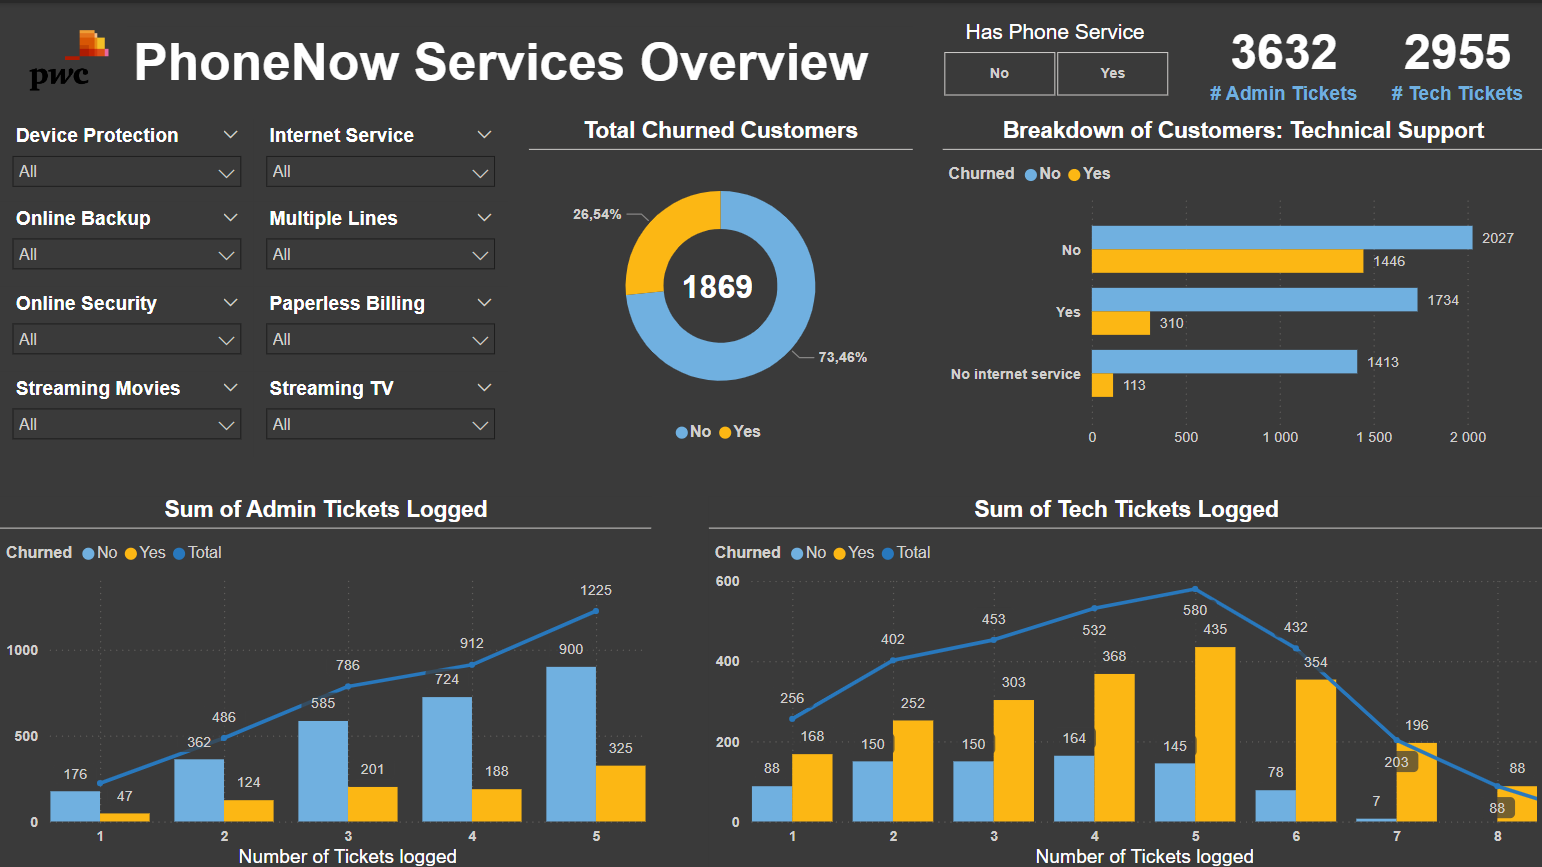

The page's visual inventory and layout, read from the dashboard file:
{"tool":"powerbi","page":{"name":"Services","canvas":[1280,720],"ordinal":0},"visuals":[{"type":"donutChart","title":"Total Churned Customers","fields":{"Y":["CountNonNull(01 Churn-Dataset.customerID)"],"Category":["01 Churn-Dataset.Churn"]},"box":[438.2,95,318.2,279.4],"z":0,"group":"g2"},{"type":"clusteredBarChart","title":"Breakdown of Customers: Technical Support","fields":{"Series":["01 Churn-Dataset.Churn"],"Y":["CountNonNull(01 Churn-Dataset.customerID)"],"Category":["01 Churn-Dataset.TechSupport"]},"box":[781.4,95,498.8,280.3],"z":0},{"type":"group","id":"g1","title":"Group 2","box":[992.8,0,287.4,95],"z":1000},{"type":"image","box":[0,0,114,95],"z":2000},{"type":"textbox","box":[105.7,20.2,812.3,59.4],"z":3000},{"type":"group","id":"g2","title":"Group 3","box":[438.2,95,318.2,279.4],"z":4000},{"type":"card","fields":{"Values":["CountNonNull(01 Churn-Dataset.Churn)"]},"box":[557.9,217.3,74.8,35.6],"z":5000,"group":"g2"},{"type":"group","id":"g3","title":"Group 4","box":[0,409,1280.2,311.2],"z":5000},{"type":"slicer","fields":{"Values":["01 Churn-Dataset.DeviceProtection"]},"box":[0,96.2,210.2,70.1],"z":6000,"group":"g4"},{"type":"lineClusteredColumnComboChart","title":"Sum of Admin Tickets Logged","fields":{"Category":["01 Churn-Dataset.numAdminTickets"],"Series":["01 Churn-Dataset.Churned"],"Y":["Sum(01 Churn-Dataset.numAdminTickets)"],"Y2":["Sum(01 Churn-Dataset.numAdminTickets)"]},"box":[0,409,540.4,311.2],"z":6000,"group":"g3"},{"type":"slicer","fields":{"Values":["01 Churn-Dataset.InternetService"]},"box":[210.2,96.2,210.2,70.1],"z":7000,"group":"g4"},{"type":"card","fields":{"Values":["Sum(01 Churn-Dataset.numTechTickets)"]},"box":[1136.5,0,143.7,95],"z":8000,"group":"g1"},{"type":"slicer","fields":{"Values":["01 Churn-Dataset.OnlineBackup"]},"box":[0,165.1,210.2,70.1],"z":8000,"group":"g4"},{"type":"slicer","fields":{"Values":["01 Churn-Dataset.MultipleLines"]},"box":[210.2,165.1,210.2,70.1],"z":9000,"group":"g4"},{"type":"card","fields":{"Values":["Sum(01 Churn-Dataset.numAdminTickets)"]},"box":[992.8,0,143.7,95],"z":9001,"group":"g1"},{"type":"lineClusteredColumnComboChart","title":"Sum of Tech Tickets Logged","fields":{"Category":["01 Churn-Dataset.numTechTickets"],"Series":["01 Churn-Dataset.Churned"],"Y":["Sum(01 Churn-Dataset.numTechTickets)"],"Y2":["Sum(01 Churn-Dataset.numTechTickets)"]},"box":[587.9,409,692.4,311.2],"z":9002,"group":"g3"},{"type":"slicer","fields":{"Values":["01 Churn-Dataset.OnlineSecurity"]},"box":[0,235.2,210.2,70.1],"z":10000,"group":"g4"},{"type":"slicer","fields":{"Values":["01 Churn-Dataset.PaperlessBilling"]},"box":[210.2,235.2,210.2,70.1],"z":11000,"group":"g4"},{"type":"slicer","fields":{"Values":["01 Churn-Dataset.StreamingMovies"]},"box":[0,305.7,210.4,69.4],"z":12000,"group":"g4"},{"type":"slicer","title":"Has Phone Service","fields":{"Values":["01 Churn-Dataset.PhoneService"]},"box":[756.5,13.1,236.3,70.1],"z":13000},{"type":"slicer","fields":{"Values":["01 Churn-Dataset.StreamingTV"]},"box":[210.2,305.2,210.2,70.1],"z":14000,"group":"g4"},{"type":"group","id":"g4","title":"Group 1","box":[0,96.2,420.4,279.1],"z":14001}]}

Visuals, with their boxes in screenshot pixels (x1, y1, x2, y2), scaled from the page's 1280x720 canvas onto the 1542x867 screenshot:
"Total Churned Customers" donutChart: pyautogui.locateOnScreen(528, 114, 911, 451)
"Breakdown of Customers: Technical Support" clusteredBarChart: pyautogui.locateOnScreen(941, 114, 1541, 452)
"Group 2" group: pyautogui.locateOnScreen(1196, 0, 1541, 114)
image: pyautogui.locateOnScreen(0, 0, 137, 114)
textbox: pyautogui.locateOnScreen(127, 24, 1106, 96)
"Group 3" group: pyautogui.locateOnScreen(528, 114, 911, 451)
card - CountNonNull(01 Churn-Dataset.Churn): pyautogui.locateOnScreen(672, 262, 762, 305)
"Group 4" group: pyautogui.locateOnScreen(0, 493, 1541, 866)
slicer - 01 Churn-Dataset.DeviceProtection: pyautogui.locateOnScreen(0, 116, 253, 200)
"Sum of Admin Tickets Logged" lineClusteredColumnComboChart: pyautogui.locateOnScreen(0, 493, 651, 866)
slicer - 01 Churn-Dataset.InternetService: pyautogui.locateOnScreen(253, 116, 506, 200)
card - Sum(01 Churn-Dataset.numTechTickets): pyautogui.locateOnScreen(1369, 0, 1541, 114)
slicer - 01 Churn-Dataset.OnlineBackup: pyautogui.locateOnScreen(0, 199, 253, 283)
slicer - 01 Churn-Dataset.MultipleLines: pyautogui.locateOnScreen(253, 199, 506, 283)
card - Sum(01 Churn-Dataset.numAdminTickets): pyautogui.locateOnScreen(1196, 0, 1369, 114)
"Sum of Tech Tickets Logged" lineClusteredColumnComboChart: pyautogui.locateOnScreen(708, 493, 1541, 866)
slicer - 01 Churn-Dataset.OnlineSecurity: pyautogui.locateOnScreen(0, 283, 253, 368)
slicer - 01 Churn-Dataset.PaperlessBilling: pyautogui.locateOnScreen(253, 283, 506, 368)
slicer - 01 Churn-Dataset.StreamingMovies: pyautogui.locateOnScreen(0, 368, 253, 452)
"Has Phone Service" slicer: pyautogui.locateOnScreen(911, 16, 1196, 100)
slicer - 01 Churn-Dataset.StreamingTV: pyautogui.locateOnScreen(253, 368, 506, 452)
"Group 1" group: pyautogui.locateOnScreen(0, 116, 506, 452)
